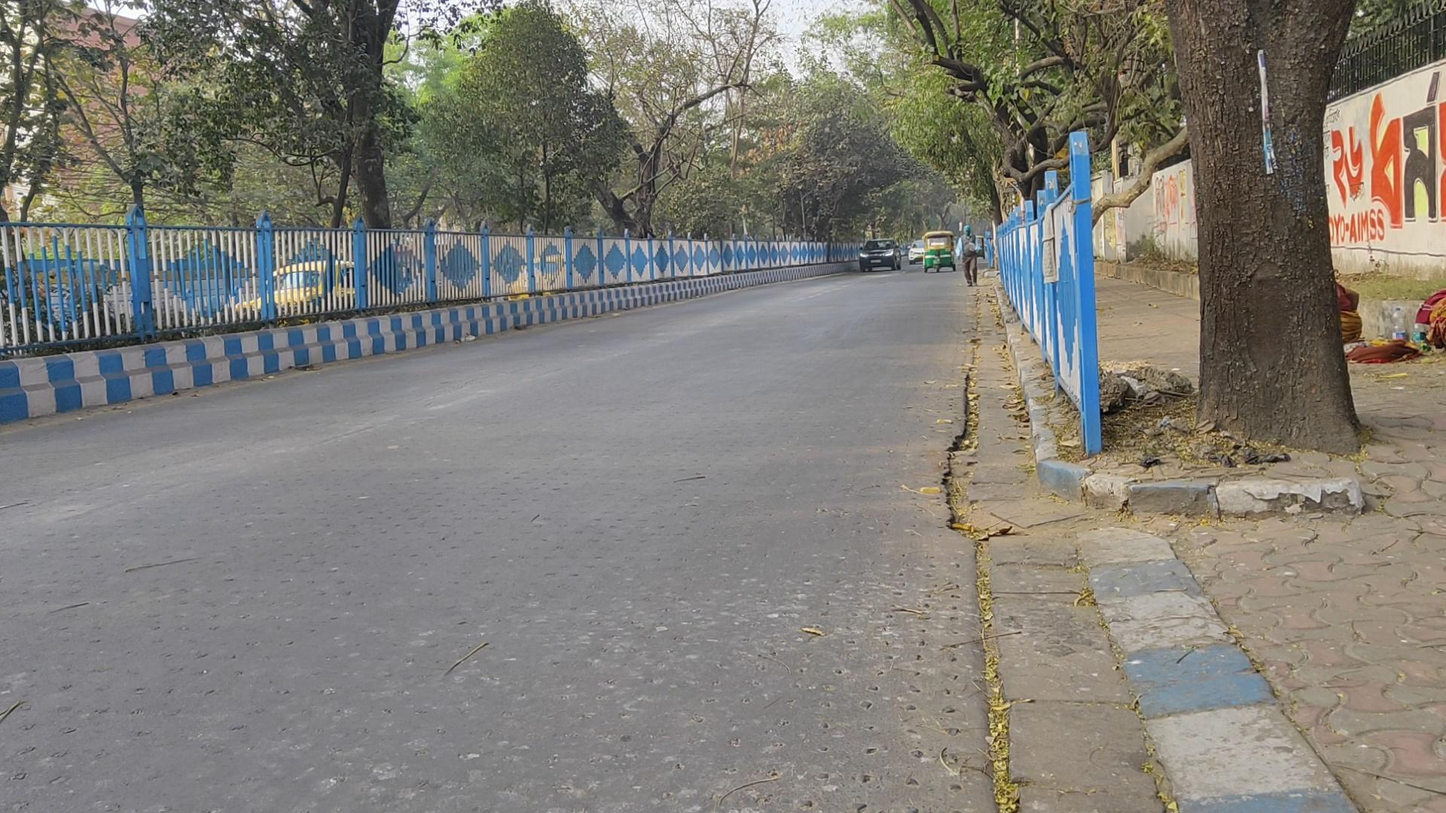Auto: (922, 230, 958, 274)
car: (858, 237, 902, 273), (908, 239, 929, 265)
